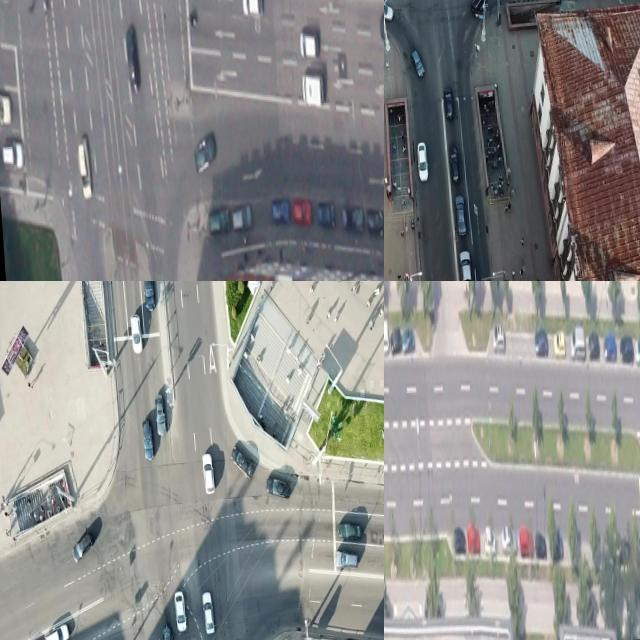UAI: (124, 21, 142, 93), (192, 131, 217, 175), (77, 137, 92, 199), (230, 445, 254, 479), (70, 530, 94, 563), (341, 202, 365, 234), (265, 475, 292, 500), (298, 29, 319, 59), (2, 141, 24, 169), (209, 207, 231, 235), (201, 590, 215, 634), (365, 206, 384, 238), (141, 419, 155, 461), (201, 453, 215, 495), (317, 199, 336, 229), (232, 203, 253, 230), (292, 198, 312, 226), (569, 325, 585, 360), (337, 520, 362, 542), (129, 315, 143, 354), (271, 197, 290, 225), (173, 591, 186, 631), (154, 394, 166, 436), (458, 250, 474, 281), (417, 141, 429, 181), (335, 549, 359, 569), (455, 194, 466, 236), (43, 623, 70, 640), (410, 49, 425, 79), (501, 526, 517, 554), (448, 145, 460, 182), (619, 335, 634, 364), (142, 281, 156, 311), (491, 324, 505, 353), (443, 86, 455, 119), (533, 328, 547, 356), (518, 530, 533, 556), (467, 525, 480, 554), (552, 329, 565, 358), (453, 526, 466, 554), (602, 335, 616, 361), (401, 327, 415, 353), (240, 0, 262, 16), (587, 331, 599, 360), (468, 0, 488, 17), (483, 528, 496, 554), (534, 532, 547, 558), (389, 327, 401, 353), (160, 625, 175, 640), (384, 0, 393, 22), (633, 336, 640, 364), (379, 11, 384, 41), (384, 319, 388, 354)
harvester: (300, 70, 325, 107)
